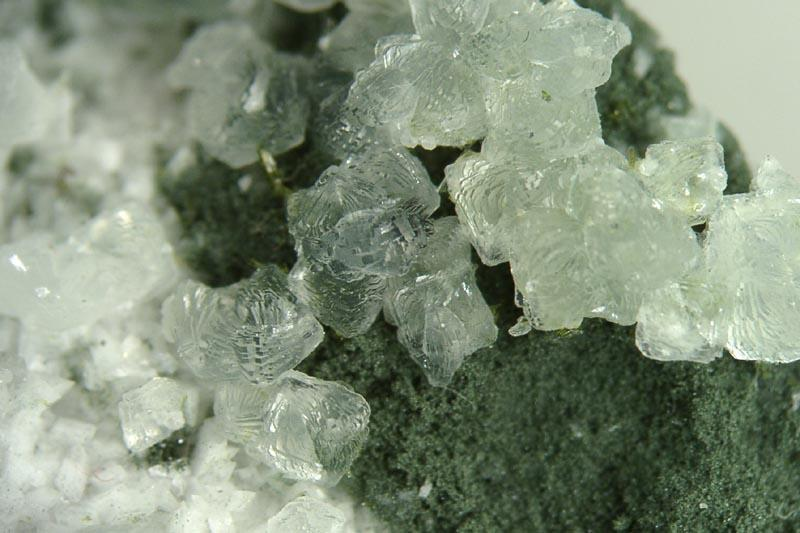prehnite: (163, 1, 800, 484), (169, 22, 310, 166)
